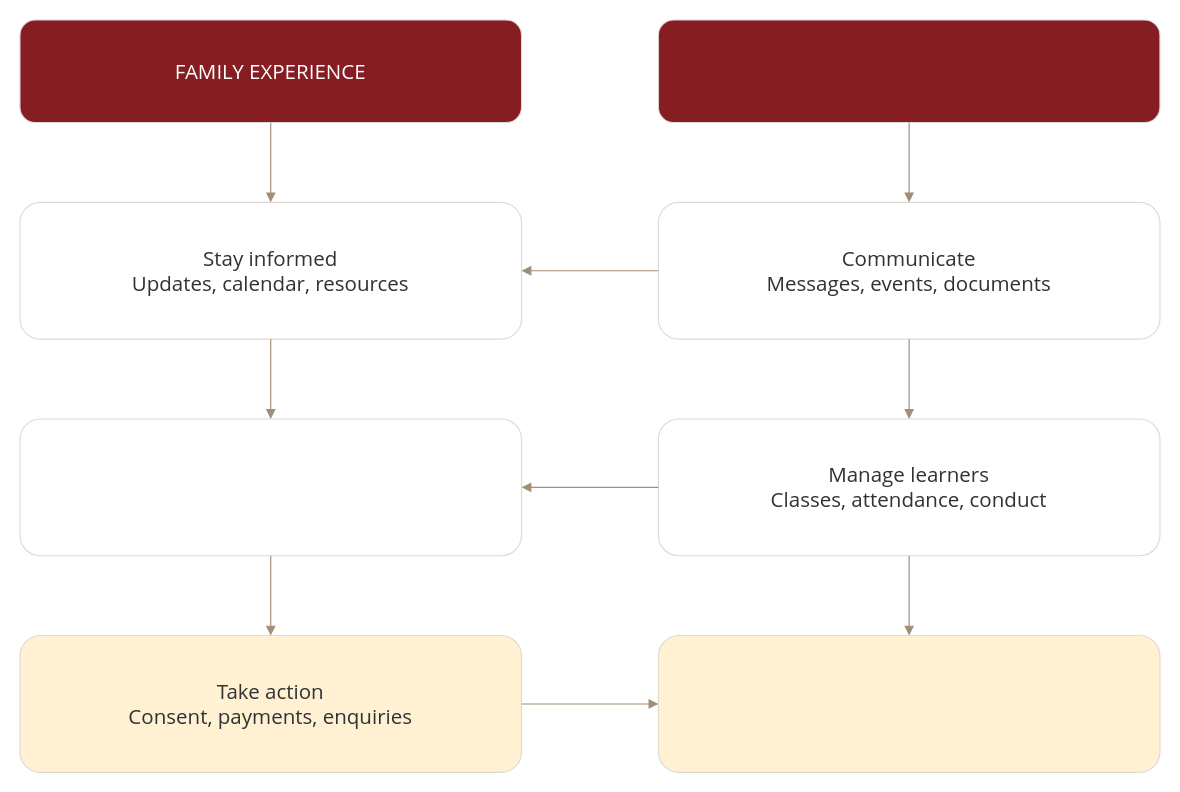
Image size: 1180x792. Some labels were removed from this diagram. The centre of each missing label's shape, as x and y in pixels:
Follow each learner Profiles, reports, records: the point at 270,487
SCHOOL OPERATIONS: the point at 908,71
Track outcomes Responses, finance, enquiries: the point at 908,703
